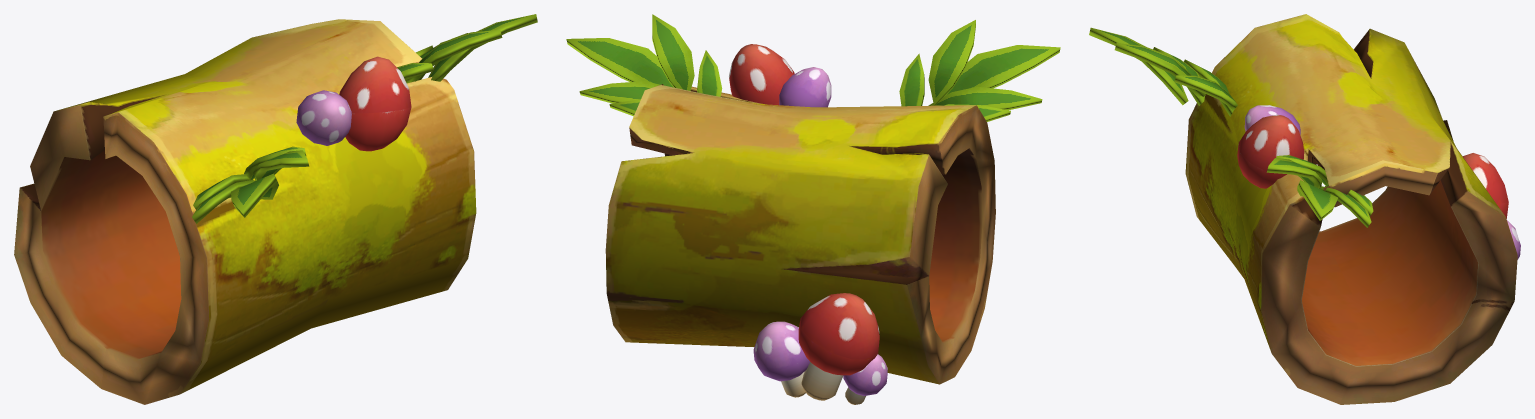
The model's file is LogsOdysseyStatue.fbx.
3 views of the same model, side by side, from view 1: azimuth 30°, elevation 25°; view 2: azimuth 150°, elevation 25°; view 3: azimuth 270°, elevation 25° (orthographic). The views are drawn at different scales.
Parts seen in each view (by area): view 1: LogGEO, MushroomGEO; view 2: LogGEO, MushroomGEO; view 3: LogGEO, MushroomGEO.
Boxes of the visible parts, left/top/right/bottom form: LogGEO: left=14, top=14, right=537, bottom=404; MushroomGEO: left=296, top=56, right=411, bottom=151; LogGEO: left=566, top=14, right=1060, bottom=384; MushroomGEO: left=729, top=44, right=887, bottom=404; LogGEO: left=1089, top=14, right=1517, bottom=404; MushroomGEO: left=1237, top=105, right=1520, bottom=259.
Size of the model in its own units: 22.57 by 13.73 by 20.3.
